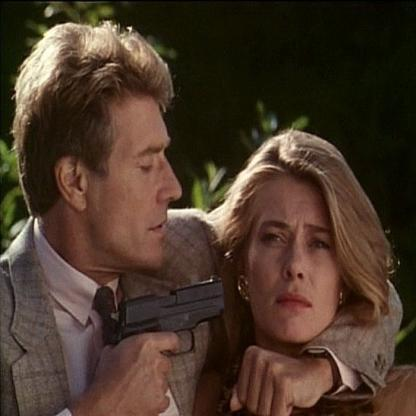gun: (101, 278, 234, 357)
